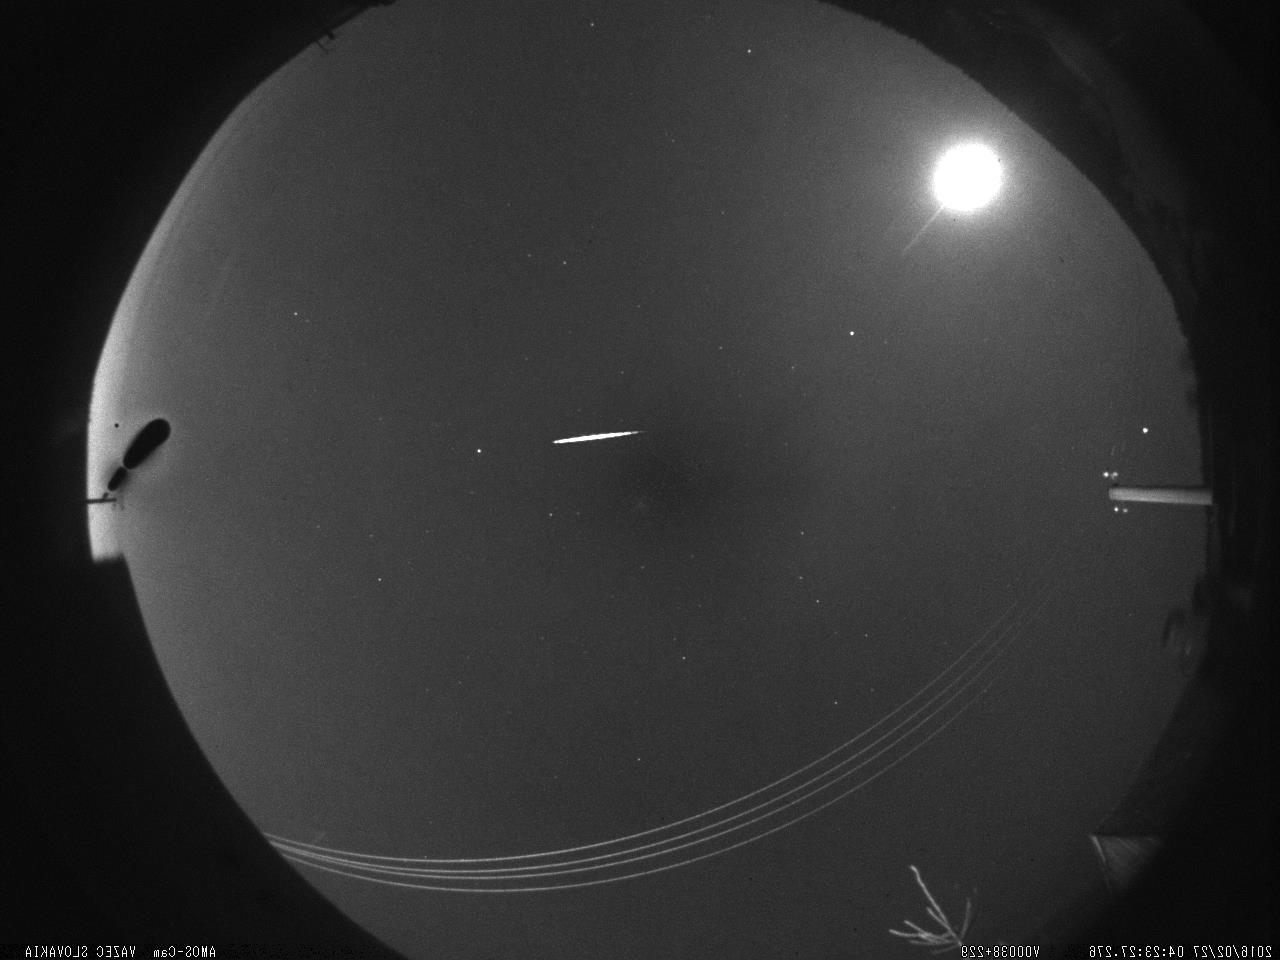meteor: (541, 398, 675, 467)
